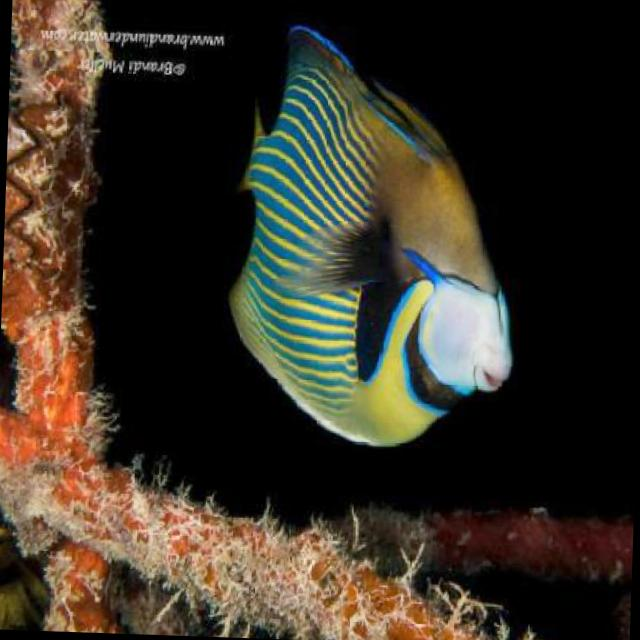AngelFish: (223, 16, 524, 448)
